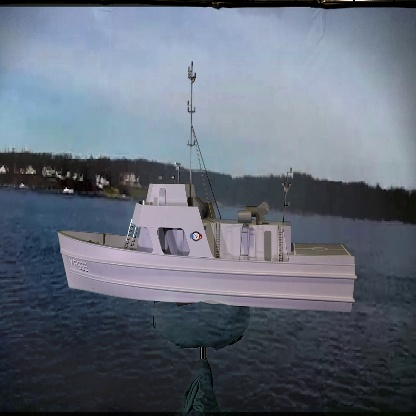YP689: (58, 58, 356, 316)
